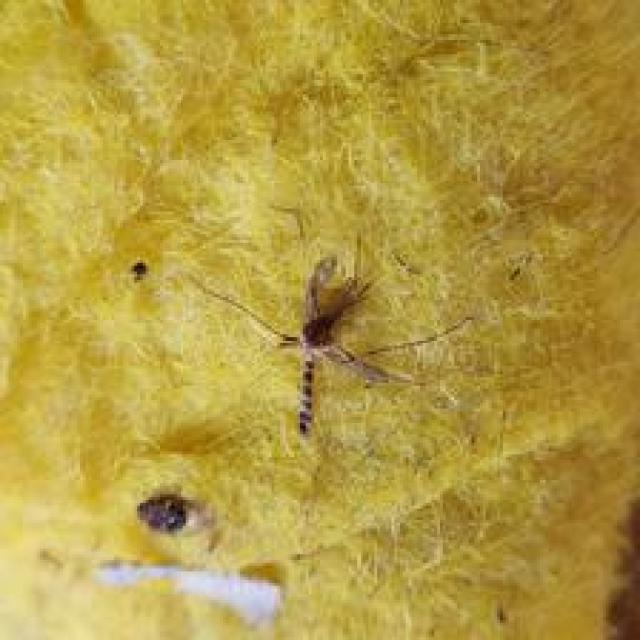Culex: (176, 249, 473, 437)
